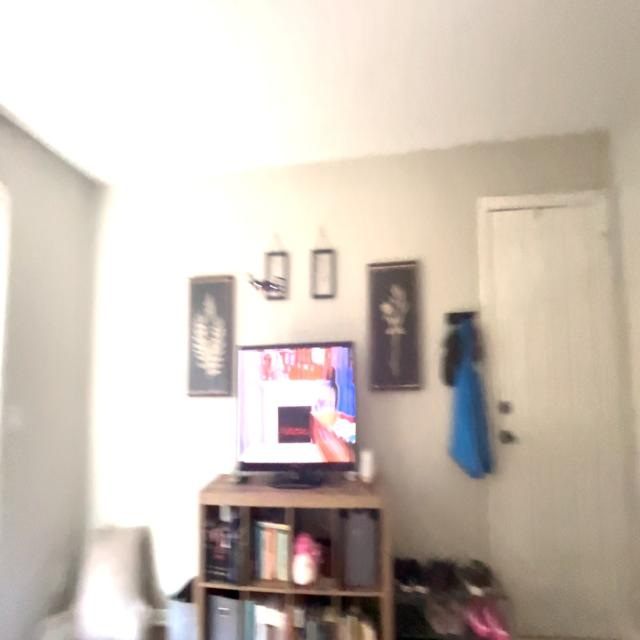drone: (240, 259, 293, 310)
